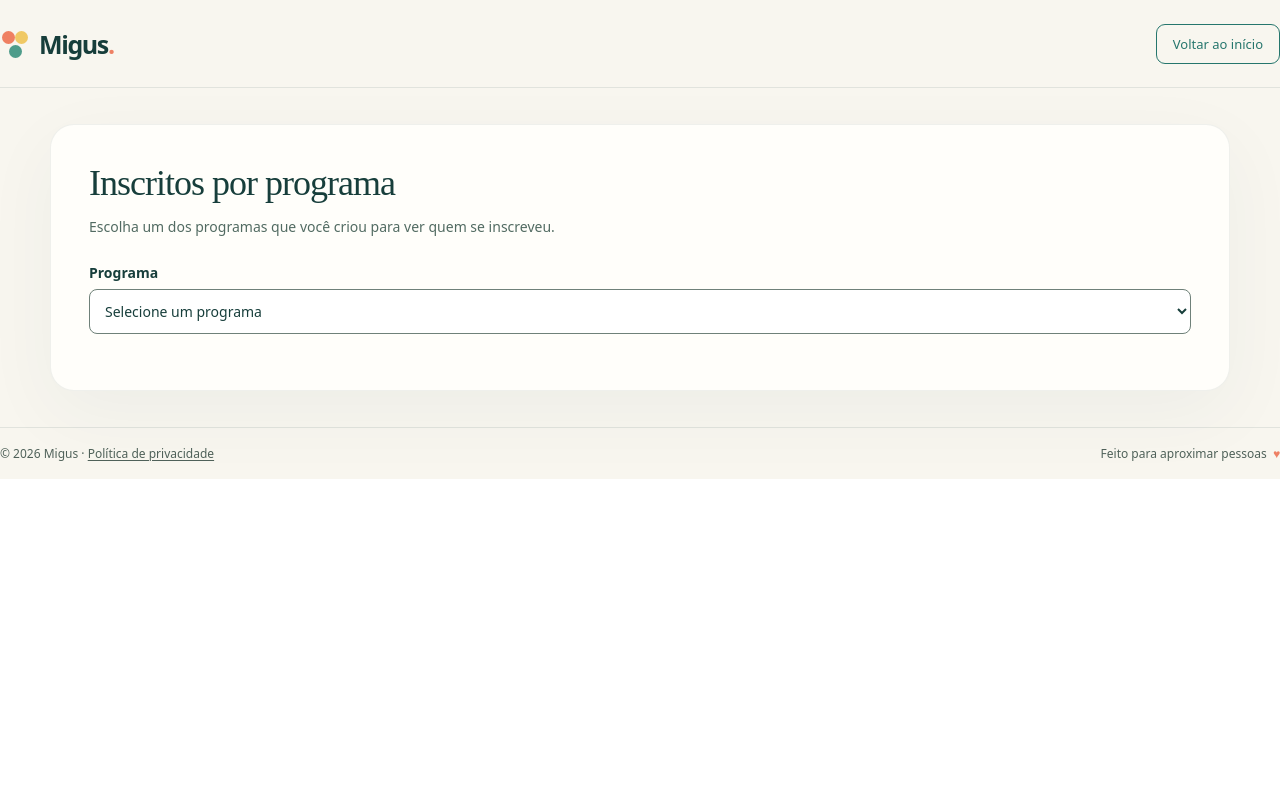
Test: pede confirmação e não envia nada ao cancelar
This screenshot has width=1280, height=800.
Select "Minha horta" in the dropdown at (640, 311), box [89,289,1191,334]
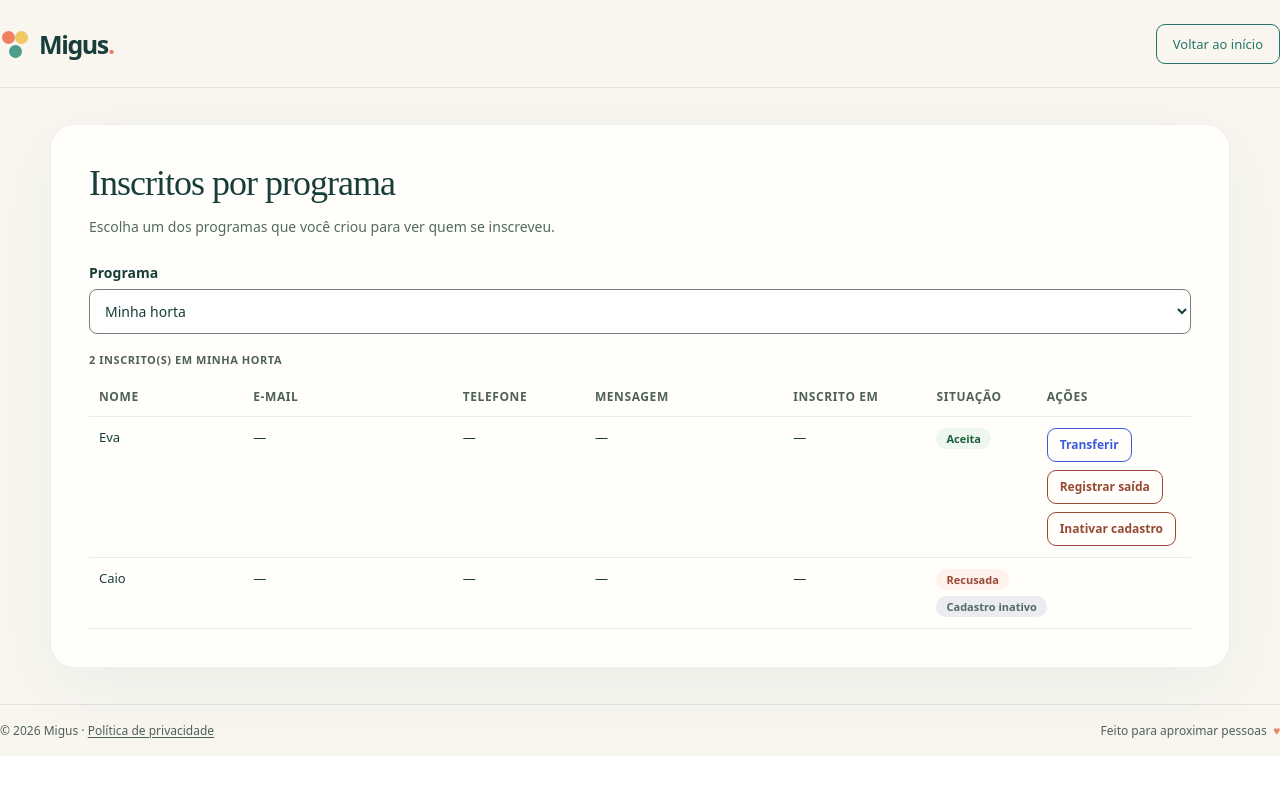
Check: the row "Eva" is shown, box [89,416,1191,557]
Click the button with aria-label "Inativar cadastro de Eva".
click(1111, 529)  # box [1047,512,1176,546]
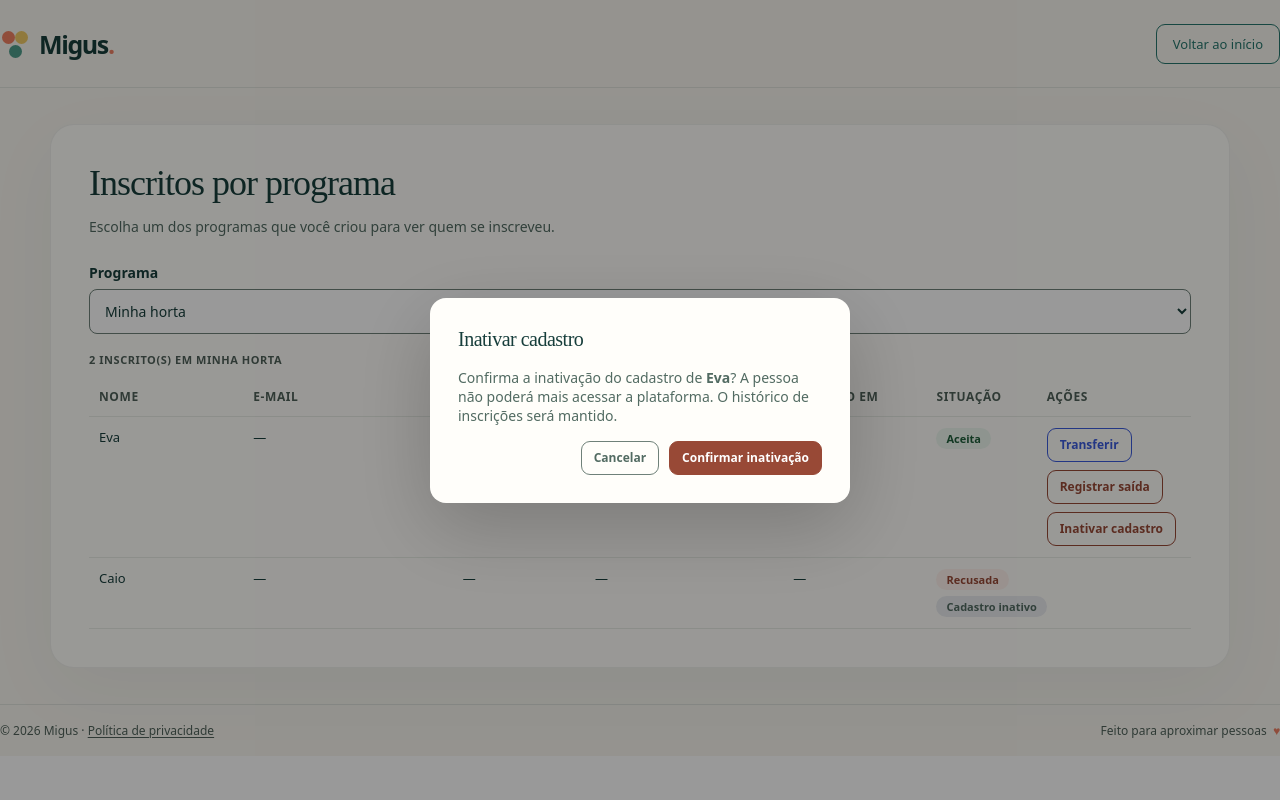
Check: the text "Confirma a inativação do cadastro de" is shown, box [458,368,706,386]
Click the button "Cancelar".
click(620, 458)  # box [581,440,659,474]
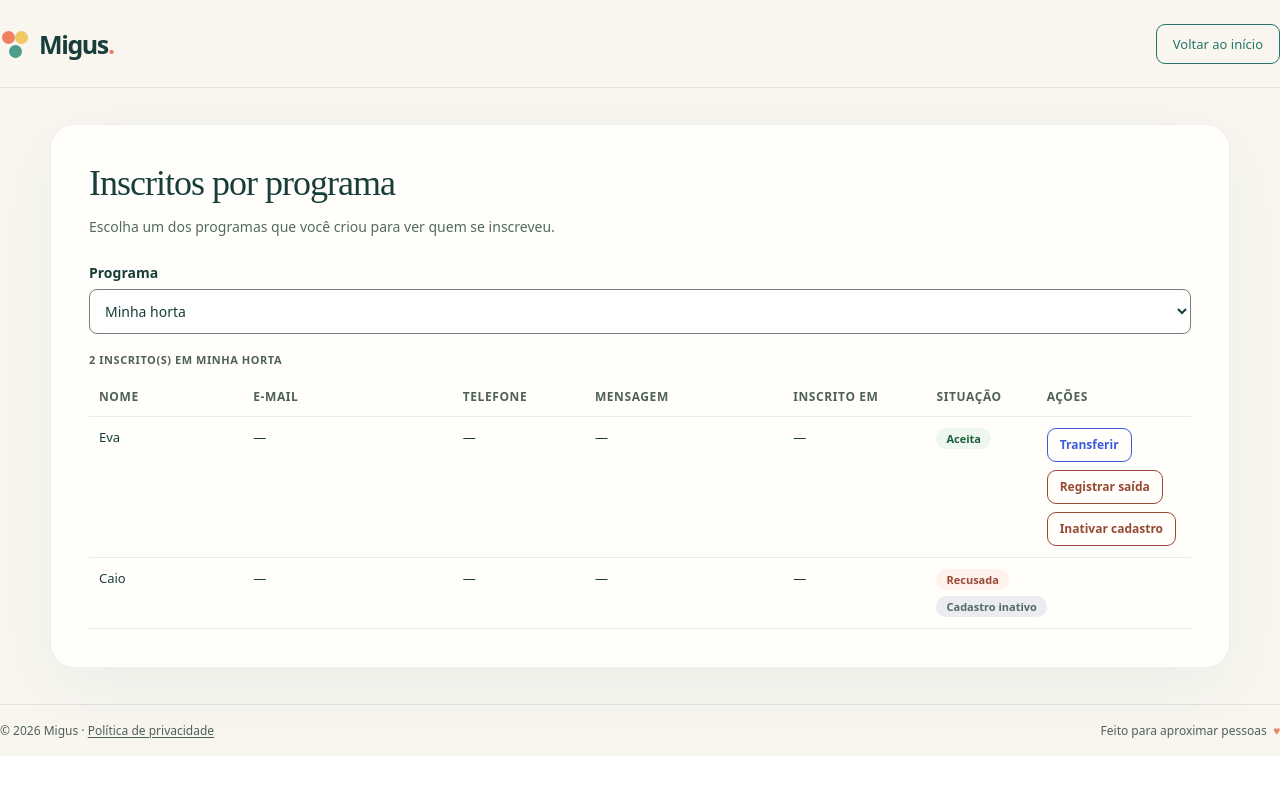
Check: the button with aria-label "Inativar cadastro de Eva" is shown, box [1047,512,1176,546]
Check: the dialog is gone
